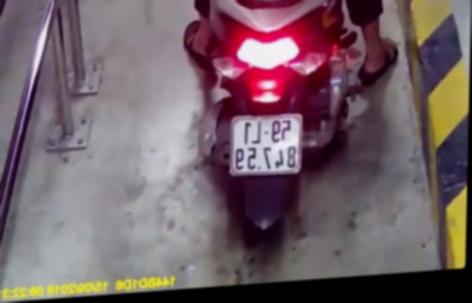License_Plate: (224, 107, 303, 182)
